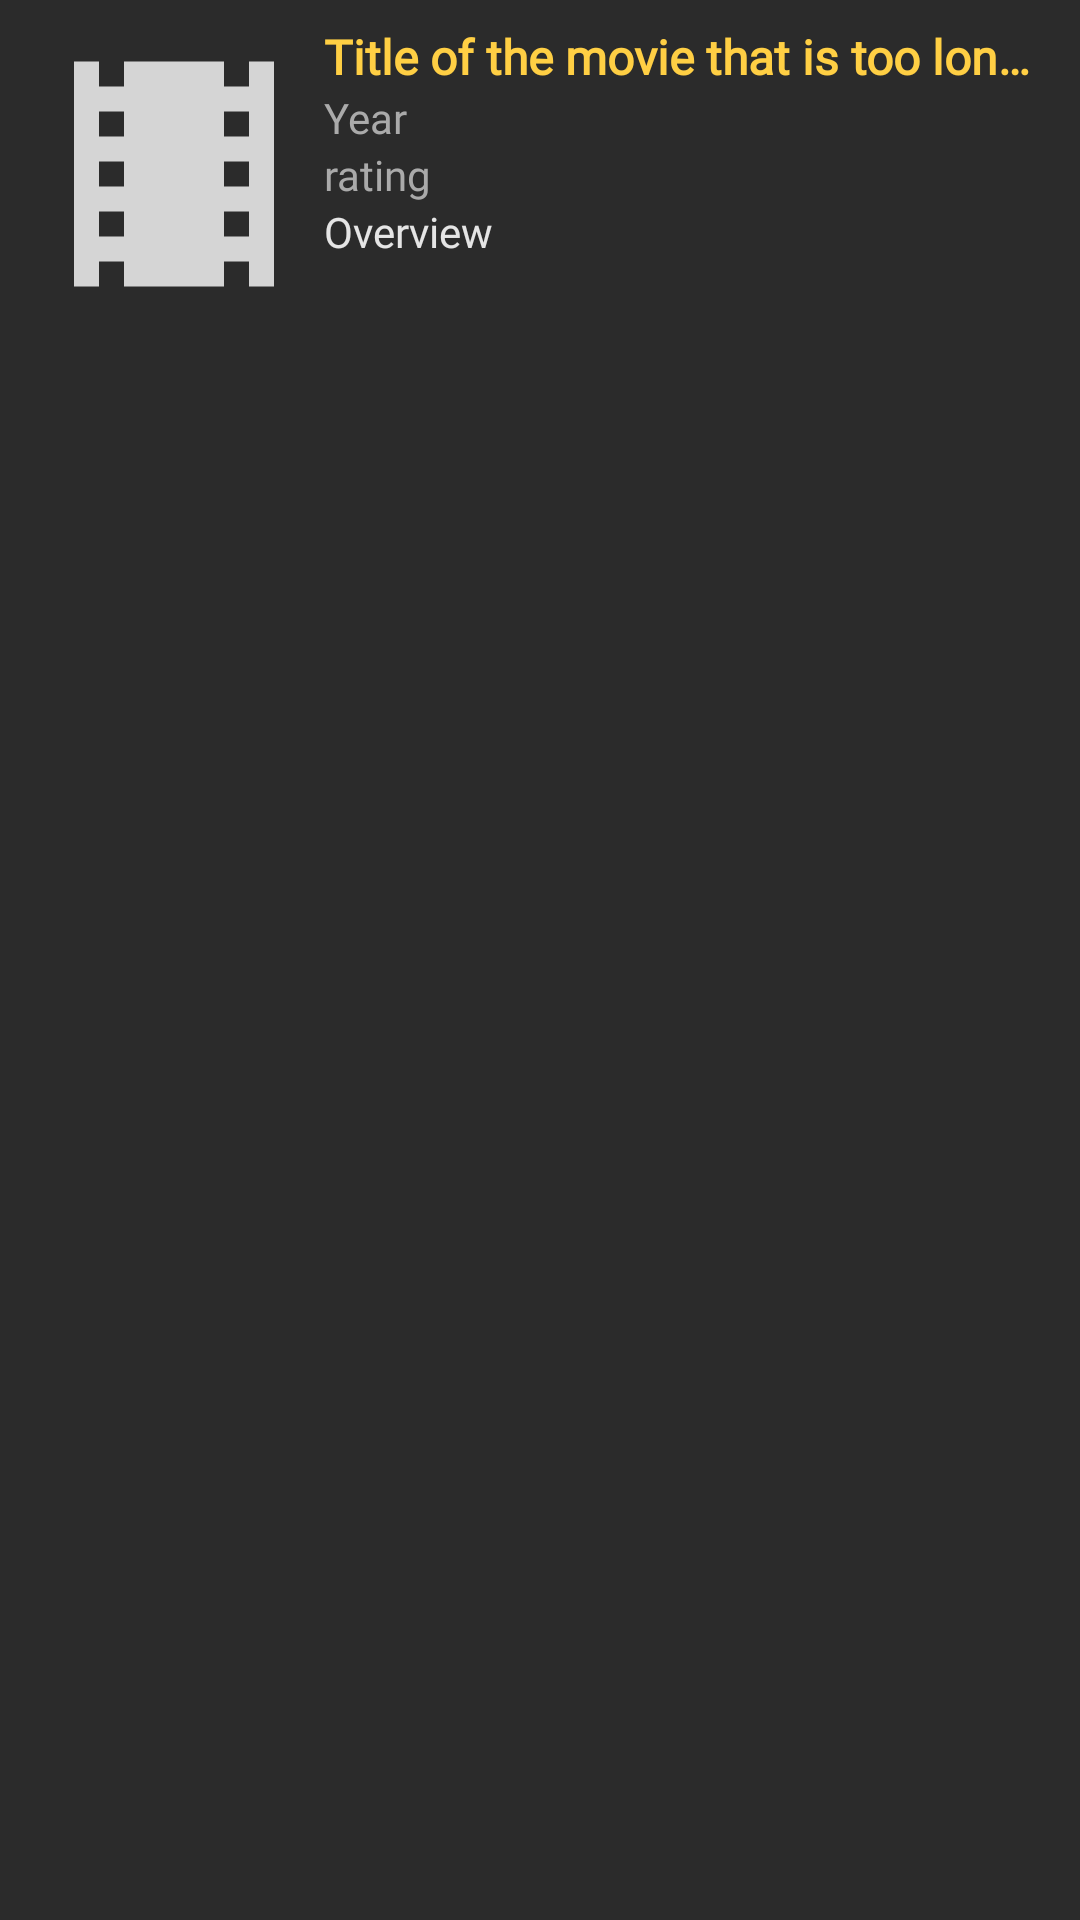

Icon click points for this 1080×1920 phone screenshot, format (x=x, y=y):
movies: (x=174, y=174)
